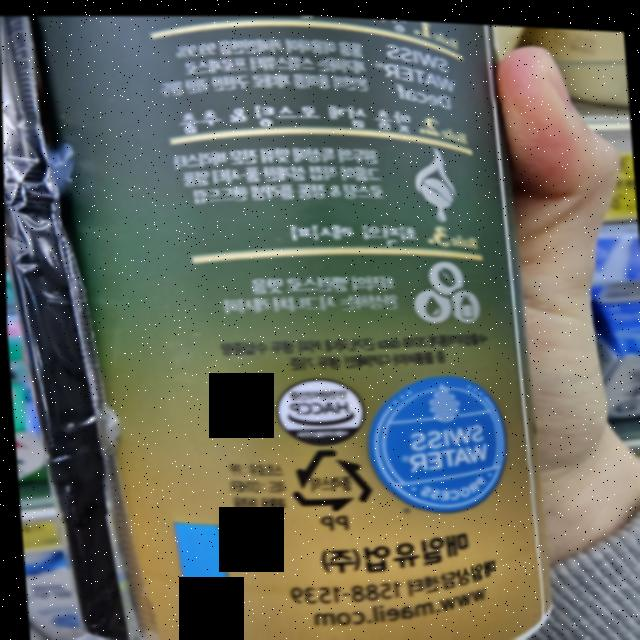Plastic: (283, 440, 373, 514)
